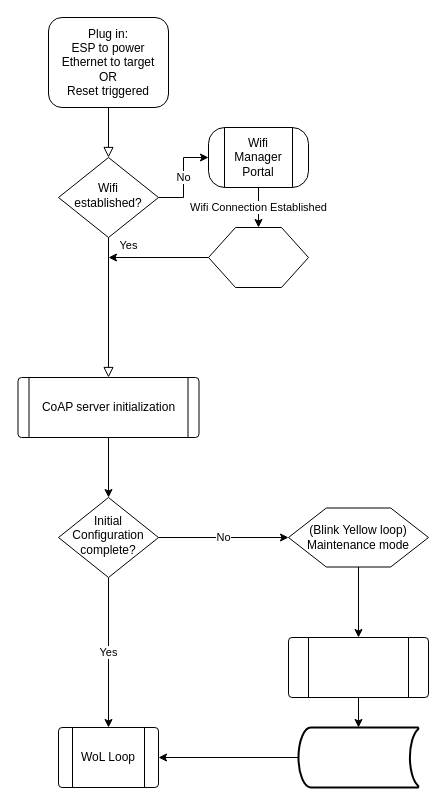
The diagram is 446 pixels wide and 806 high, and some of its shapes have lost their labels. Each missing label, with the box of its shape:
1. Target MAC + Secureon 2. Client authentication info: (297, 726, 419, 788)
Configuration Portal: (288, 636, 428, 698)
Stop portal + shutdown AP: (208, 226, 308, 288)
